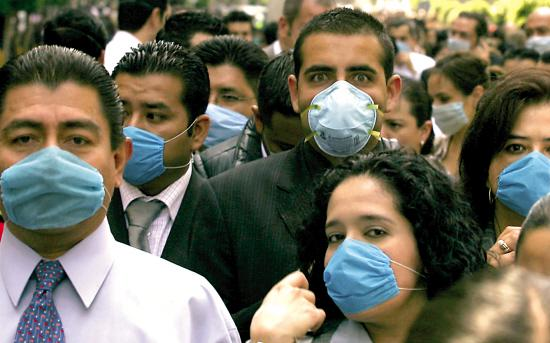NONE: (370, 109, 423, 166)
OK: (4, 110, 123, 229), (323, 213, 422, 312), (299, 58, 385, 144), (105, 97, 187, 186), (491, 126, 550, 217), (186, 86, 258, 150), (431, 88, 475, 138), (524, 26, 550, 58), (451, 26, 477, 55), (390, 30, 415, 58)
